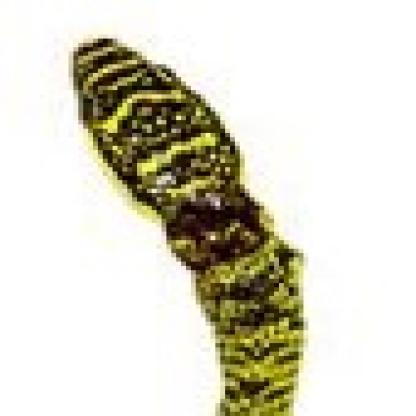snakes: (64, 29, 317, 416)
